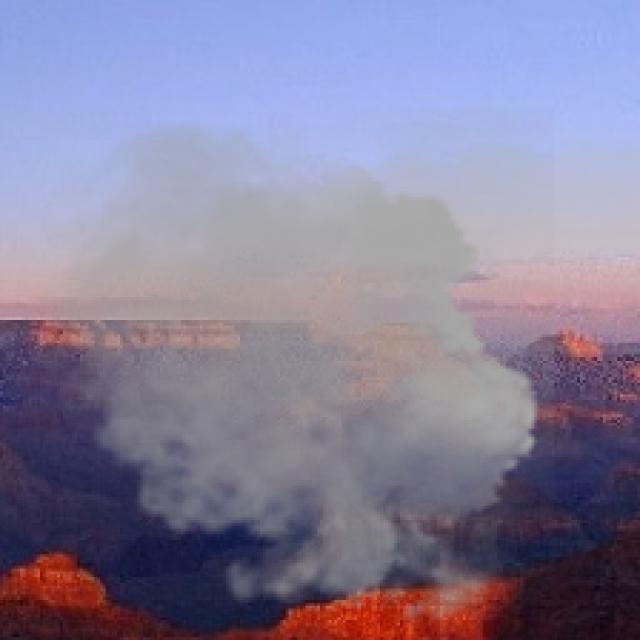Smoke: (17, 108, 557, 638)
